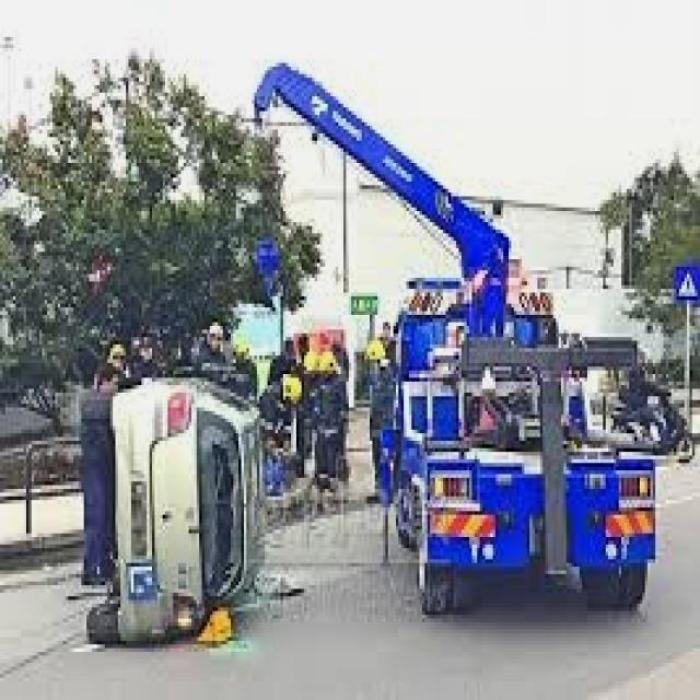Accident: (45, 326, 308, 666)
